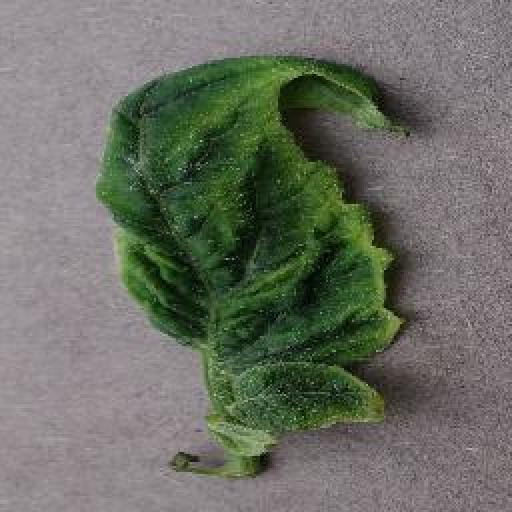Yellow Leaf Curl Virus: (89, 53, 403, 455)
